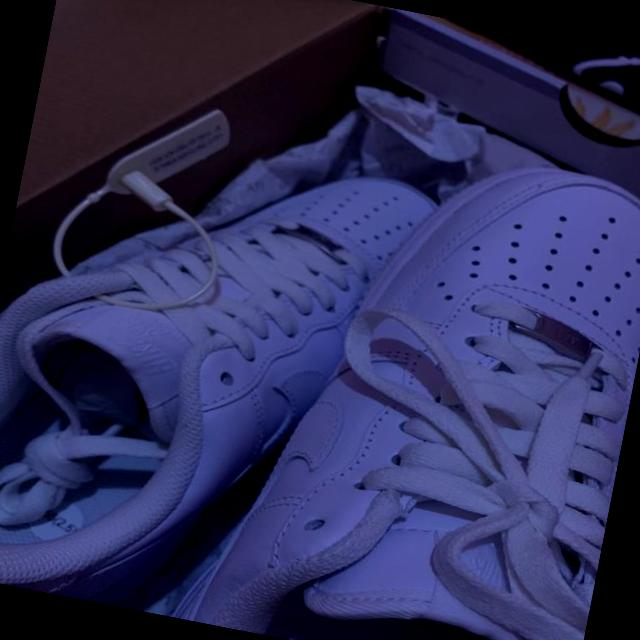nike_original_airforce: (165, 114, 640, 640), (0, 103, 463, 640)
